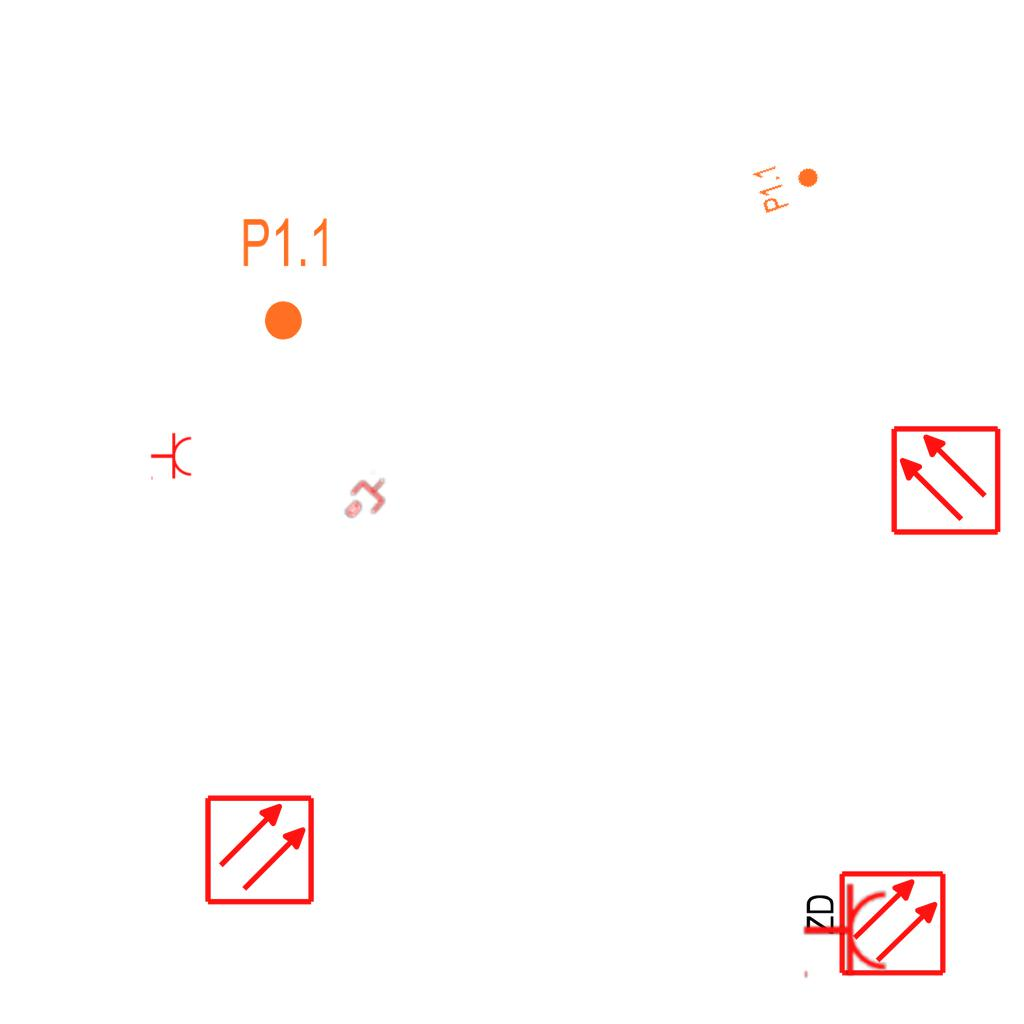Datenanschluss_einfach: (337, 468, 397, 528)
Downlight_LED_Einbauleuchten_Flur: (240, 215, 333, 343), (750, 150, 826, 216)
RMO_Rauchmelder_optischer: (203, 793, 316, 906), (889, 424, 1002, 537)
Schukosteckdose_einfach: (802, 882, 889, 982), (150, 432, 193, 482)
ZD_Melder_in_Zwischendecke_mit_Revisionsoeffnung_mind_40_x_40_cm: (799, 868, 948, 982)
